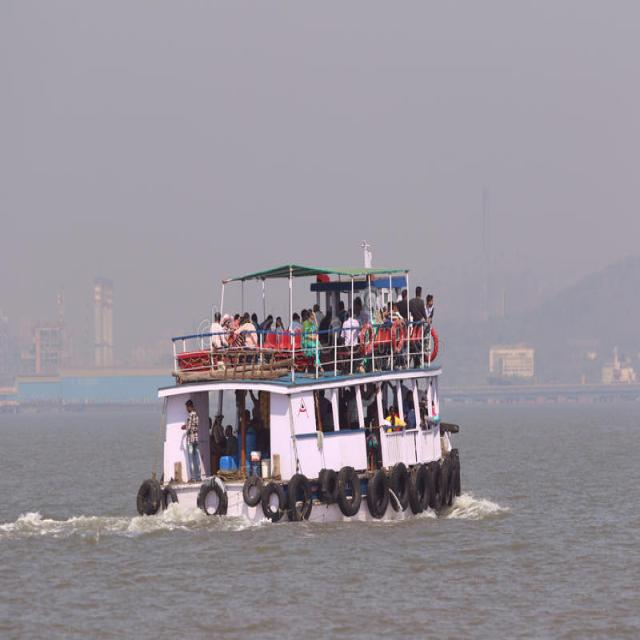houseboat: (133, 226, 462, 522)
